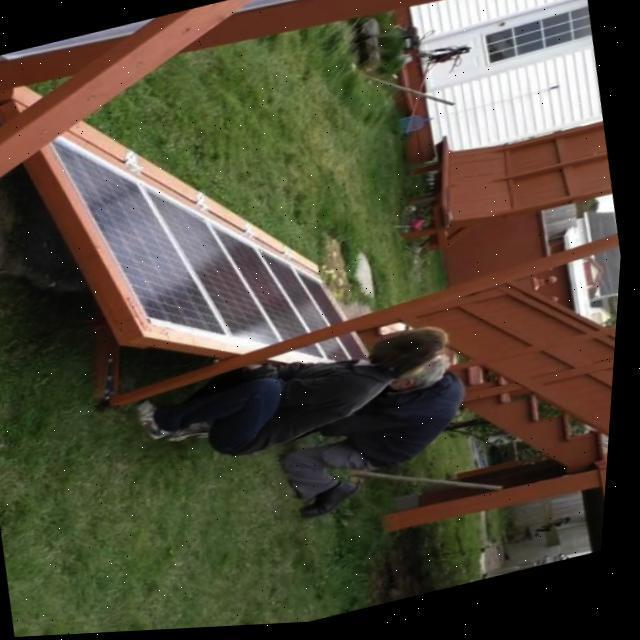Normal Solar Panel: (39, 69, 392, 429)
